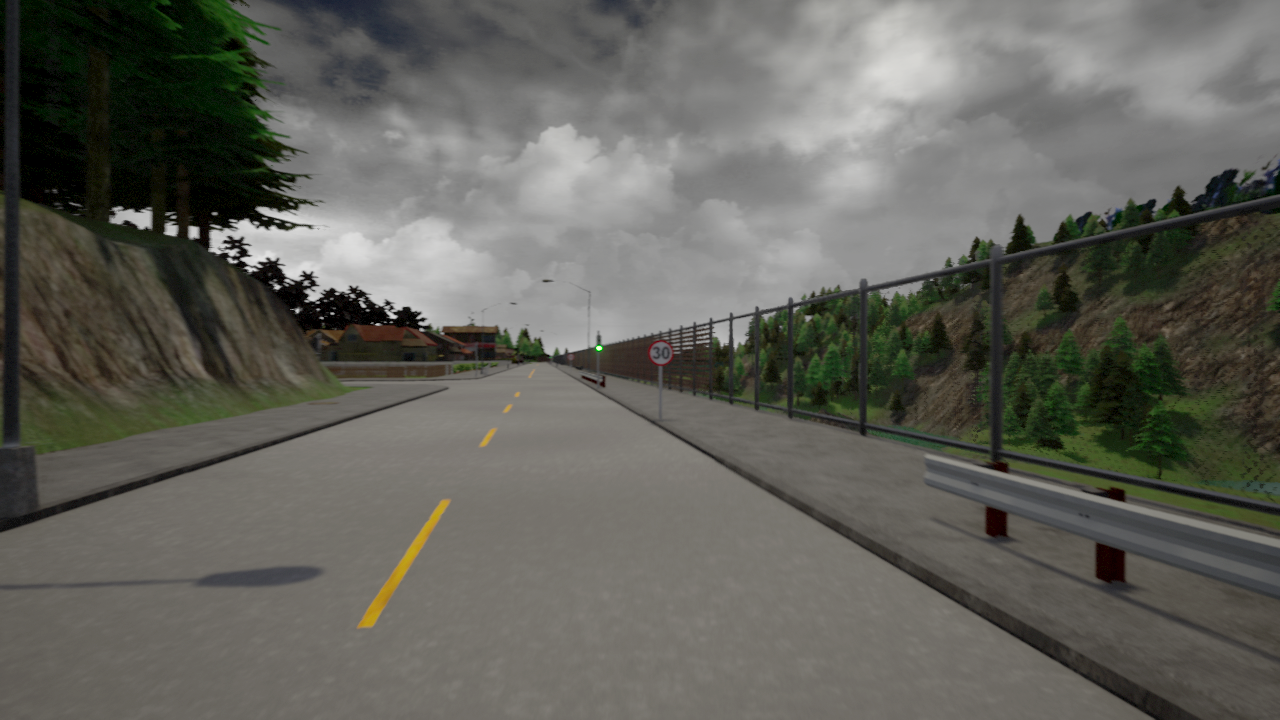green: (595, 334, 603, 352)
